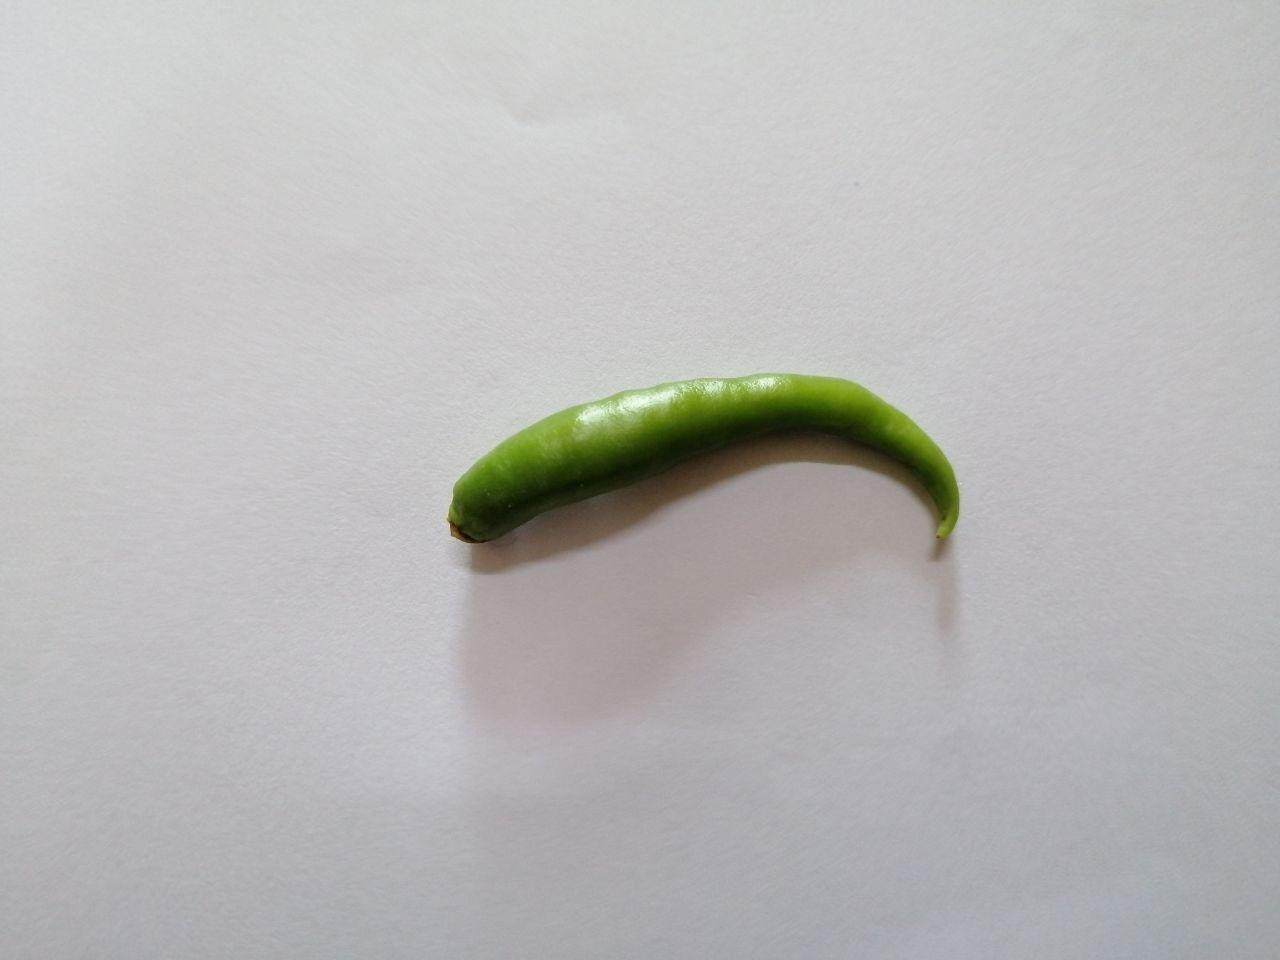lada hijau: (419, 344, 981, 594)
